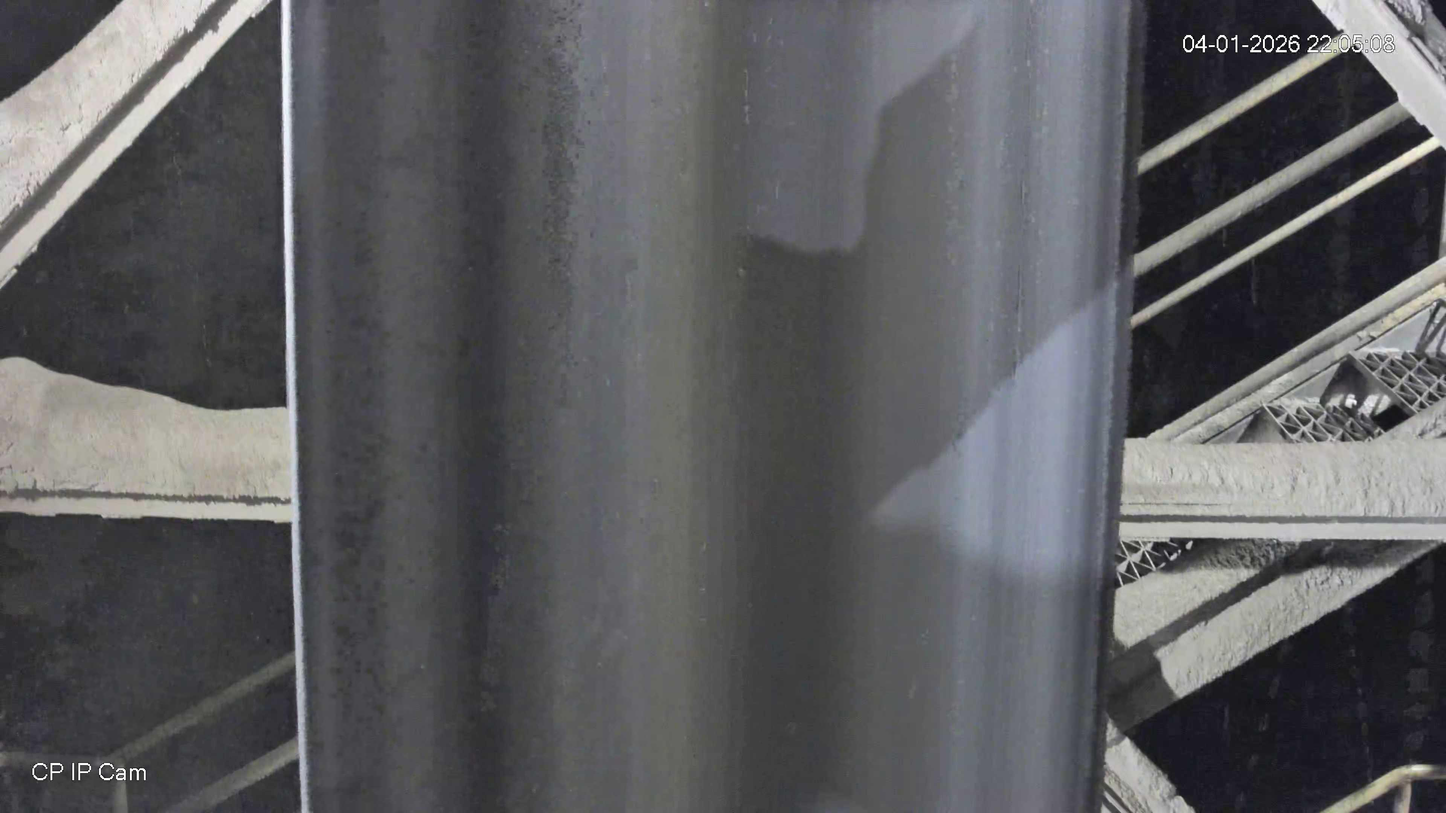belt_roi: (280, 0, 1146, 813)
